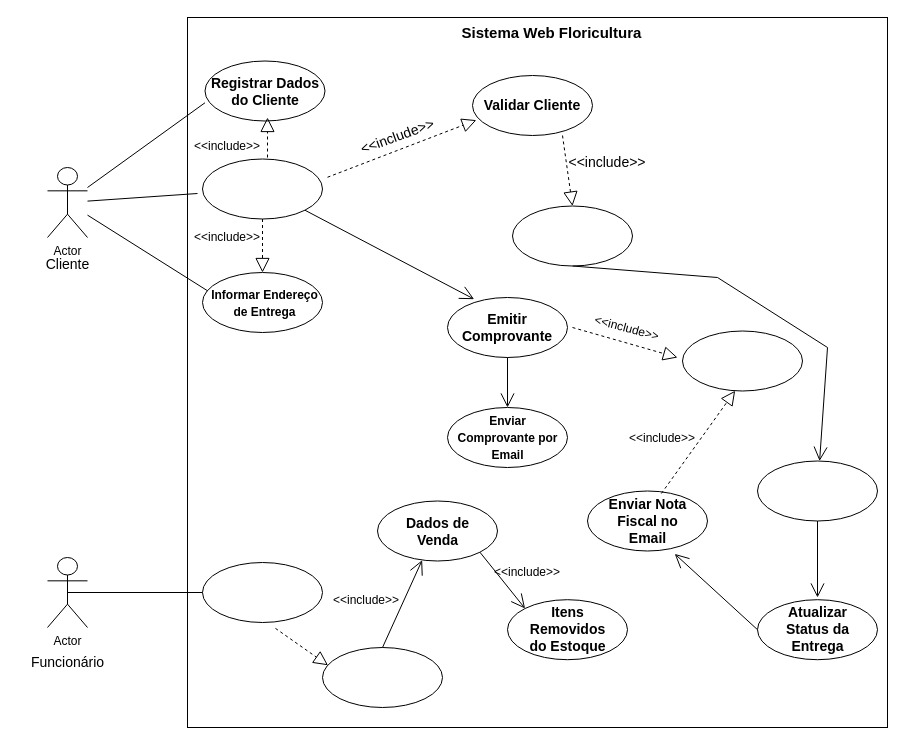
This 905x745 diagram has some shape labels left out. Each missing label, with the centre of its shape:
Dados de Entrega: the point at 817,490
Informar Endereço de Email: the point at 742,360
Registrar Itens: the point at 572,235
Registrar Pedido: the point at 262,188
Registrar Venda: the point at 262,592
Selecionar Pedido: the point at 382,677
